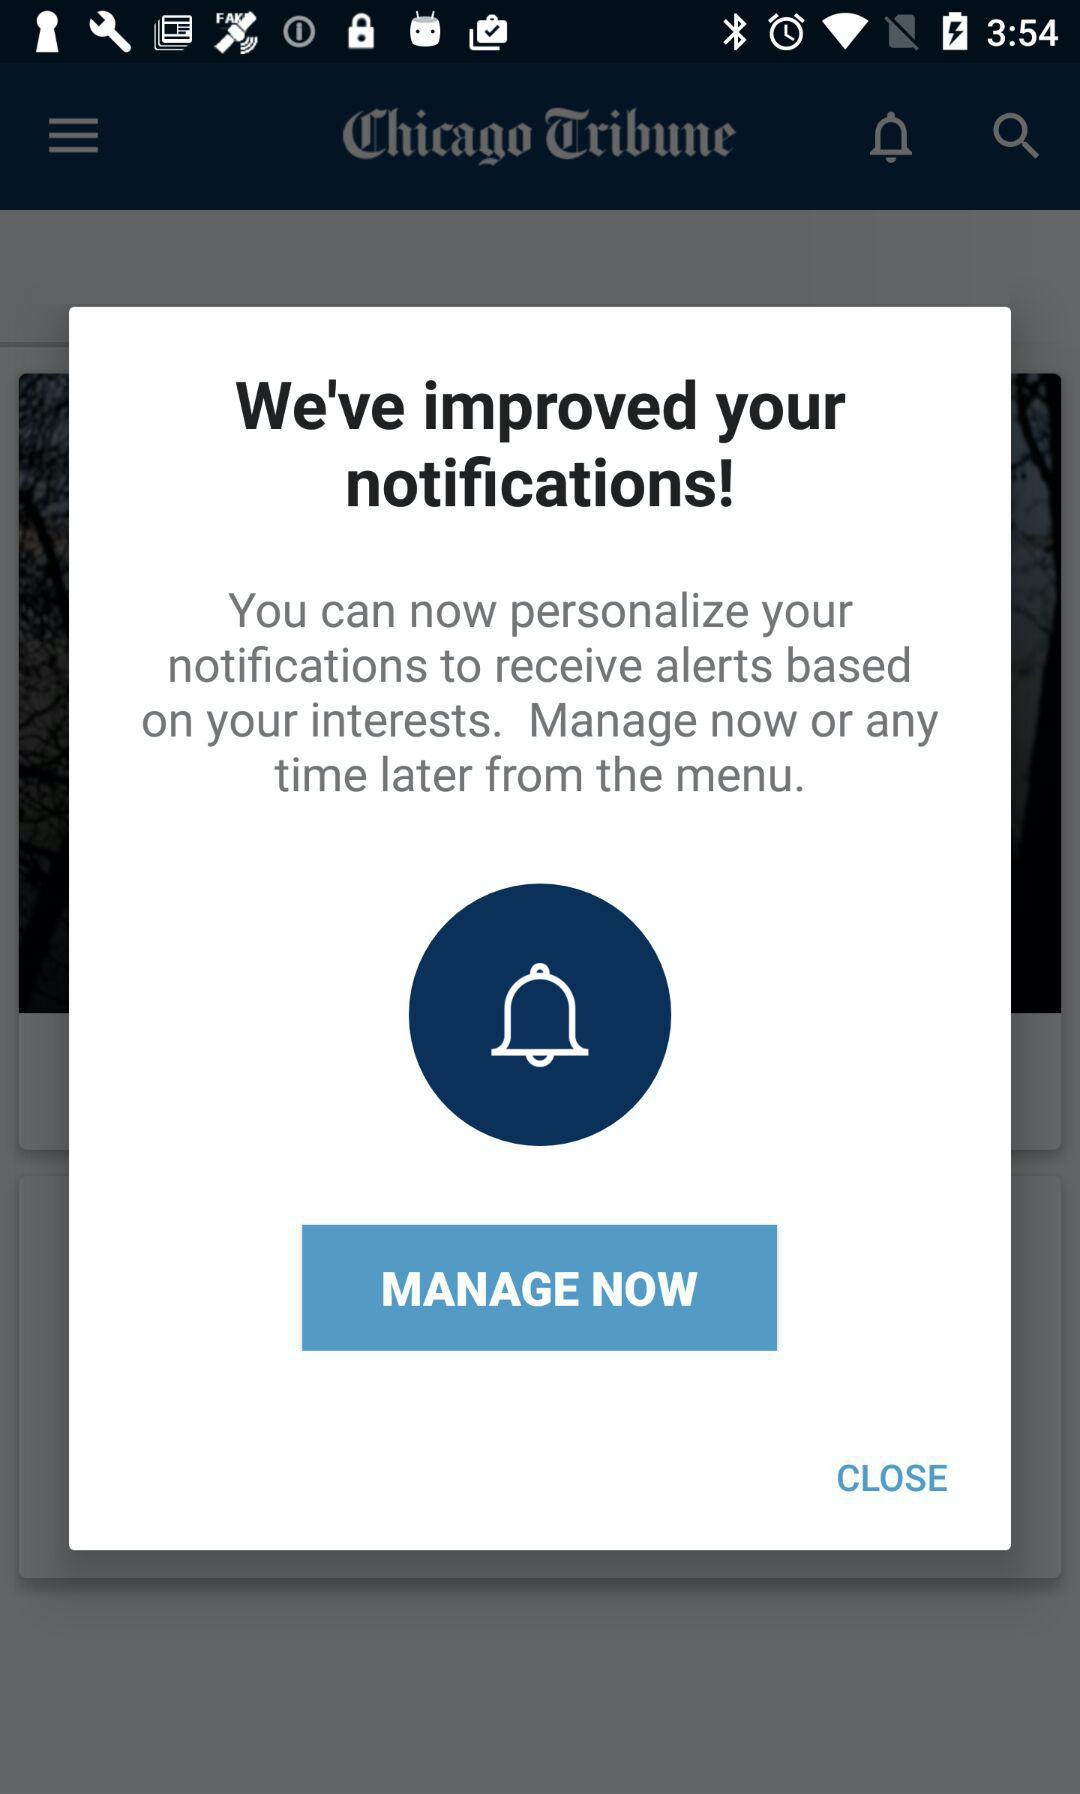Icon: (409, 883, 673, 1147), (869, 111, 913, 167), (992, 111, 1040, 161), (49, 118, 100, 155)
Image: (342, 106, 737, 169)
Modal: (69, 306, 1012, 1551)
Text: (142, 592, 940, 794), (236, 381, 847, 509), (837, 1463, 948, 1492)
TextButton: (302, 1224, 779, 1352)
UpperTaskBar: (1, 1, 1080, 64)
